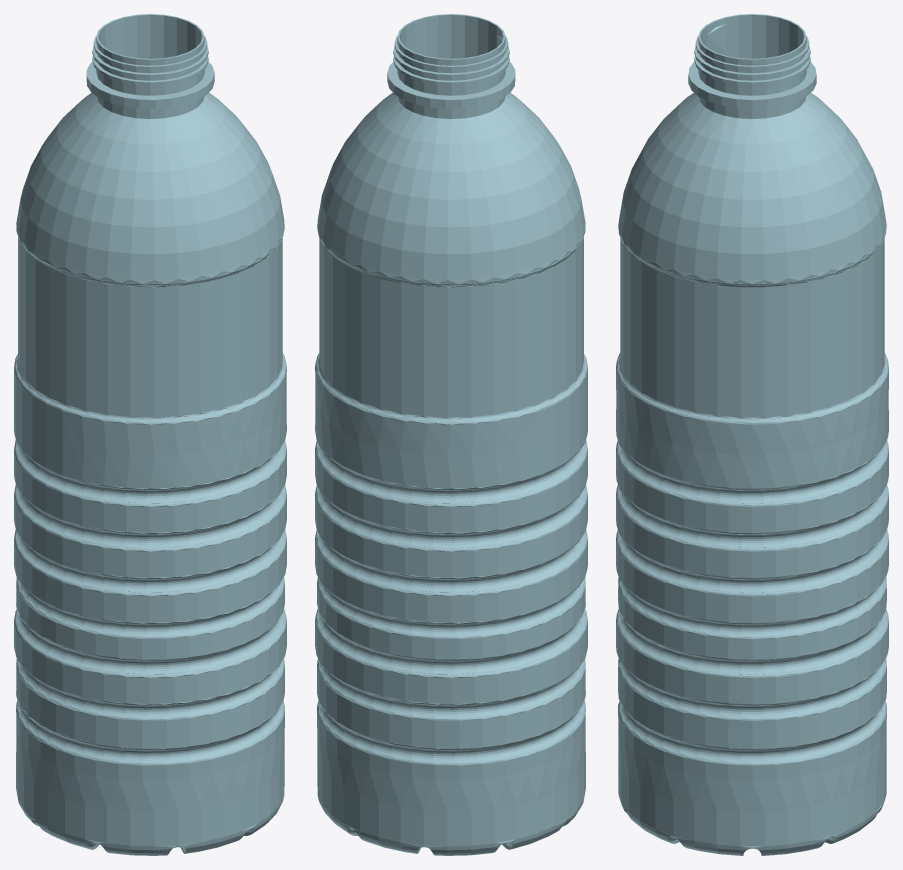
Rendered from water.glb.
The picture shows the model from 3 angles, left to right: view 1: azimuth 30°, elevation 25°; view 2: azimuth 150°, elevation 25°; view 3: azimuth 270°, elevation 25°; orthographic projection.
Parts seen in each view (by area): view 1: Mesh_Mesh_head_geo.001_lambert2SG.001; view 2: Mesh_Mesh_head_geo.001_lambert2SG.001; view 3: Mesh_Mesh_head_geo.001_lambert2SG.001.
Boxes of the visible parts, left/top/right/bottom form: Mesh_Mesh_head_geo.001_lambert2SG.001: left=14, top=14, right=286, bottom=855; Mesh_Mesh_head_geo.001_lambert2SG.001: left=315, top=14, right=587, bottom=855; Mesh_Mesh_head_geo.001_lambert2SG.001: left=616, top=14, right=888, bottom=855.
Size of the model in its own units: 0.018 by 0.056 by 0.018.
